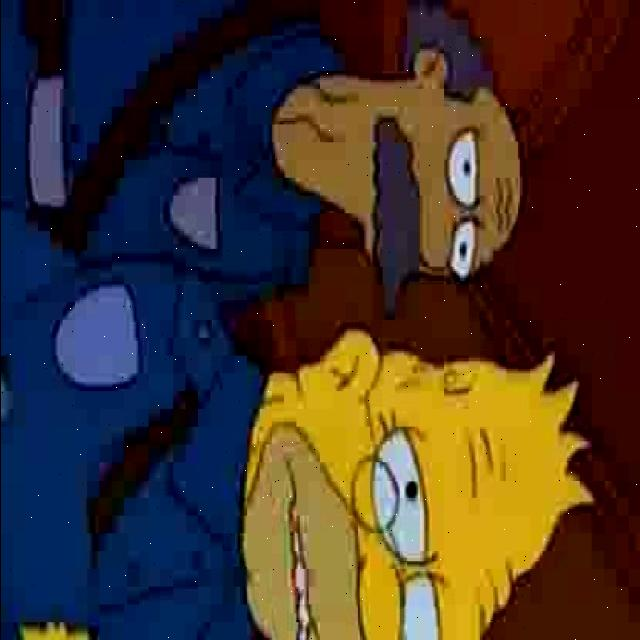Abraham Grampa Simpson: (236, 324, 598, 640)
